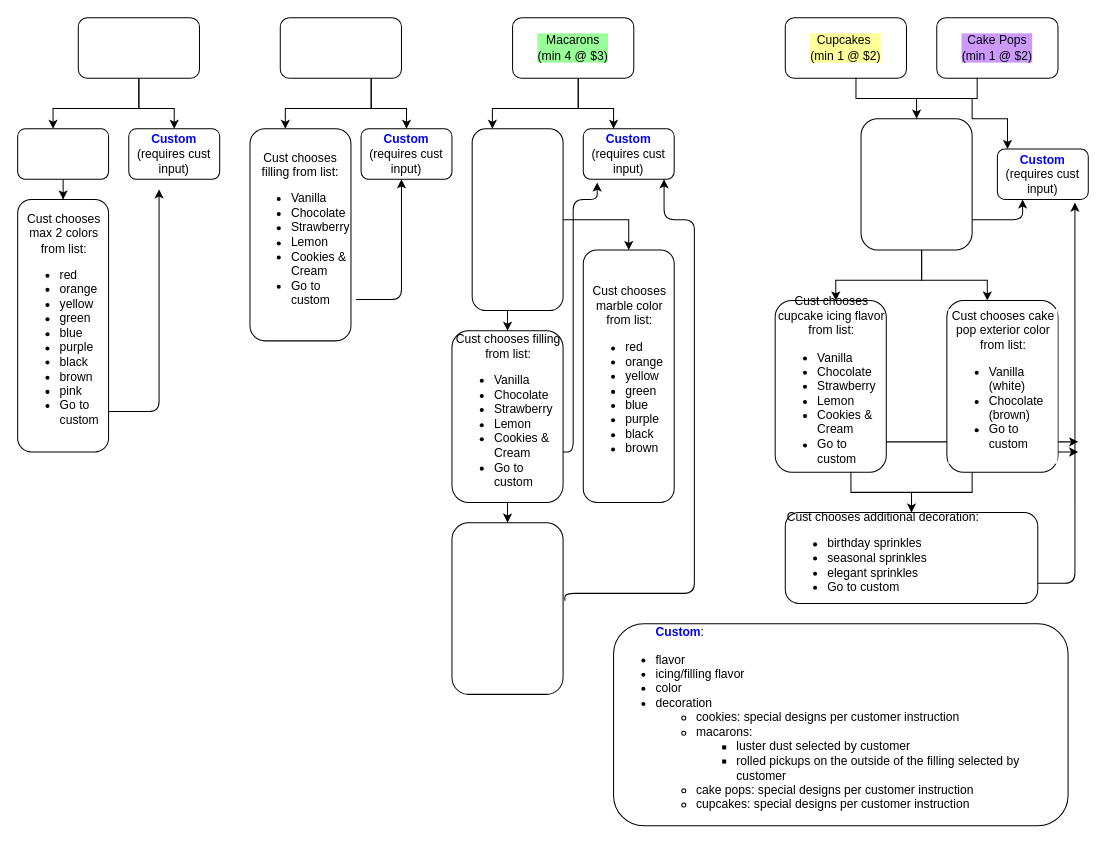
Some shapes in this 1106 by 843 pixel diagram are drawn without their labels. The box of each missing label's shape, as (x1, y1, x2, y2) in pixels:
Cream Puffs (min 4 @ $3): (279, 17, 401, 78)
Cust chooses cake flavor from list: Vanilla Chocolate Lemon Go to custom: (860, 118, 972, 250)
Cust chooses custom finishes: Go to custom: (451, 522, 563, 694)
Cust chooses external color from list: blue pink yellow marbled Go to custom: (471, 128, 563, 311)
Iced Sugar Cookies (min 2 @ $1): (77, 17, 199, 78)
Marbled (max 2 colors): (17, 128, 109, 179)
